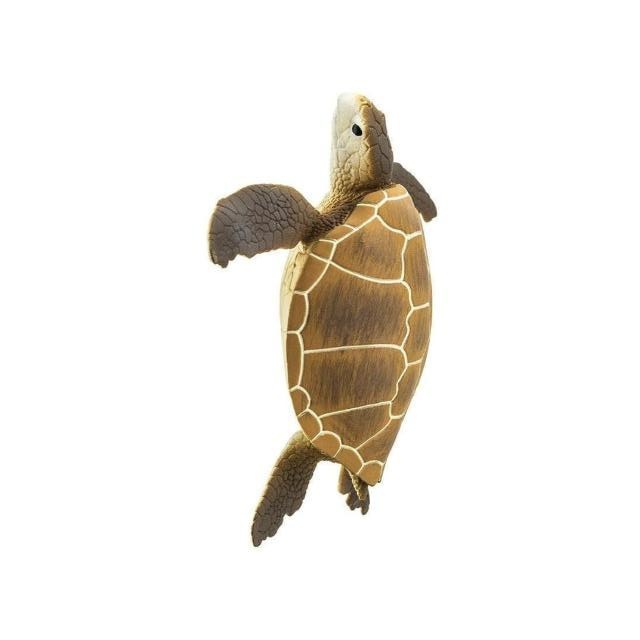turtle: (206, 90, 440, 549)
